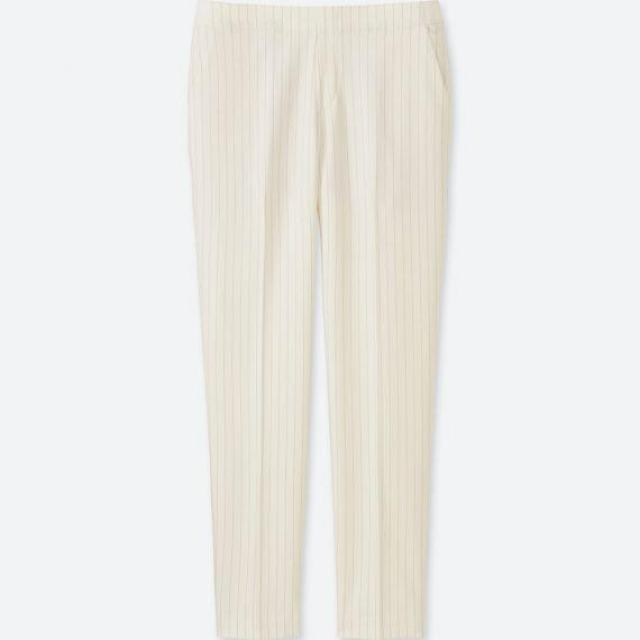long-pants: (188, 0, 457, 640)
